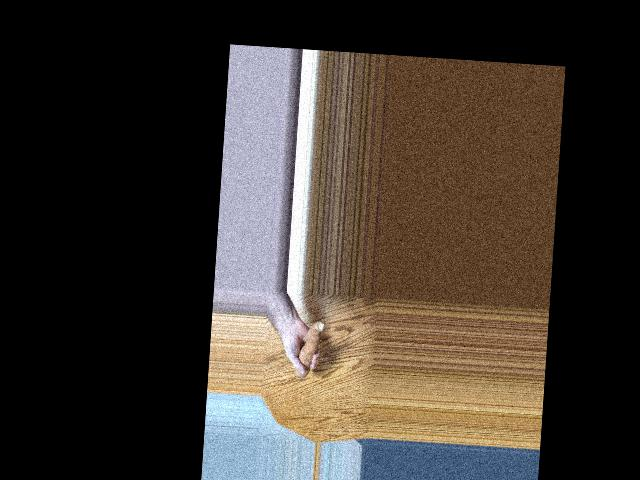sweet_potato: (295, 316, 323, 381)
